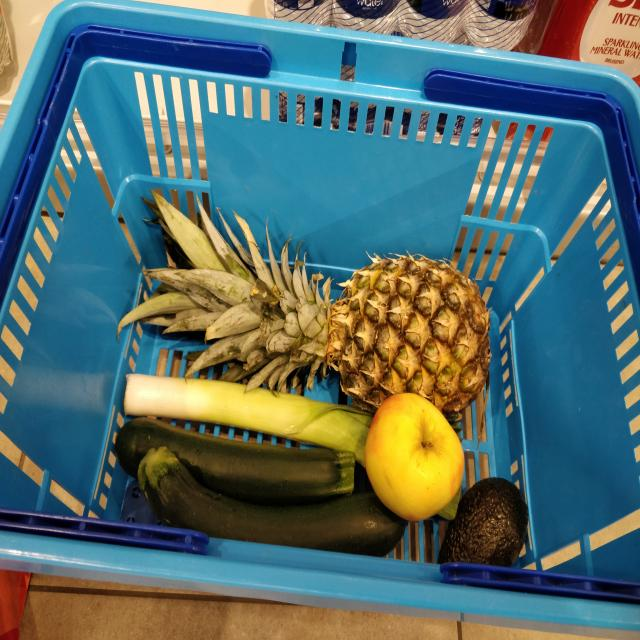Apple: (361, 393, 467, 524)
